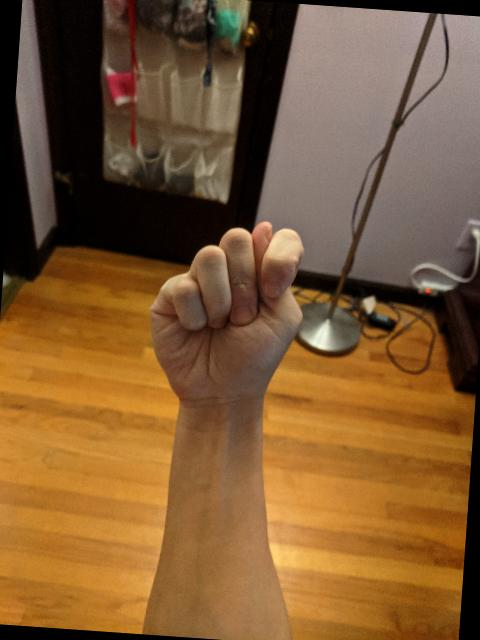T: (138, 206, 314, 418)
